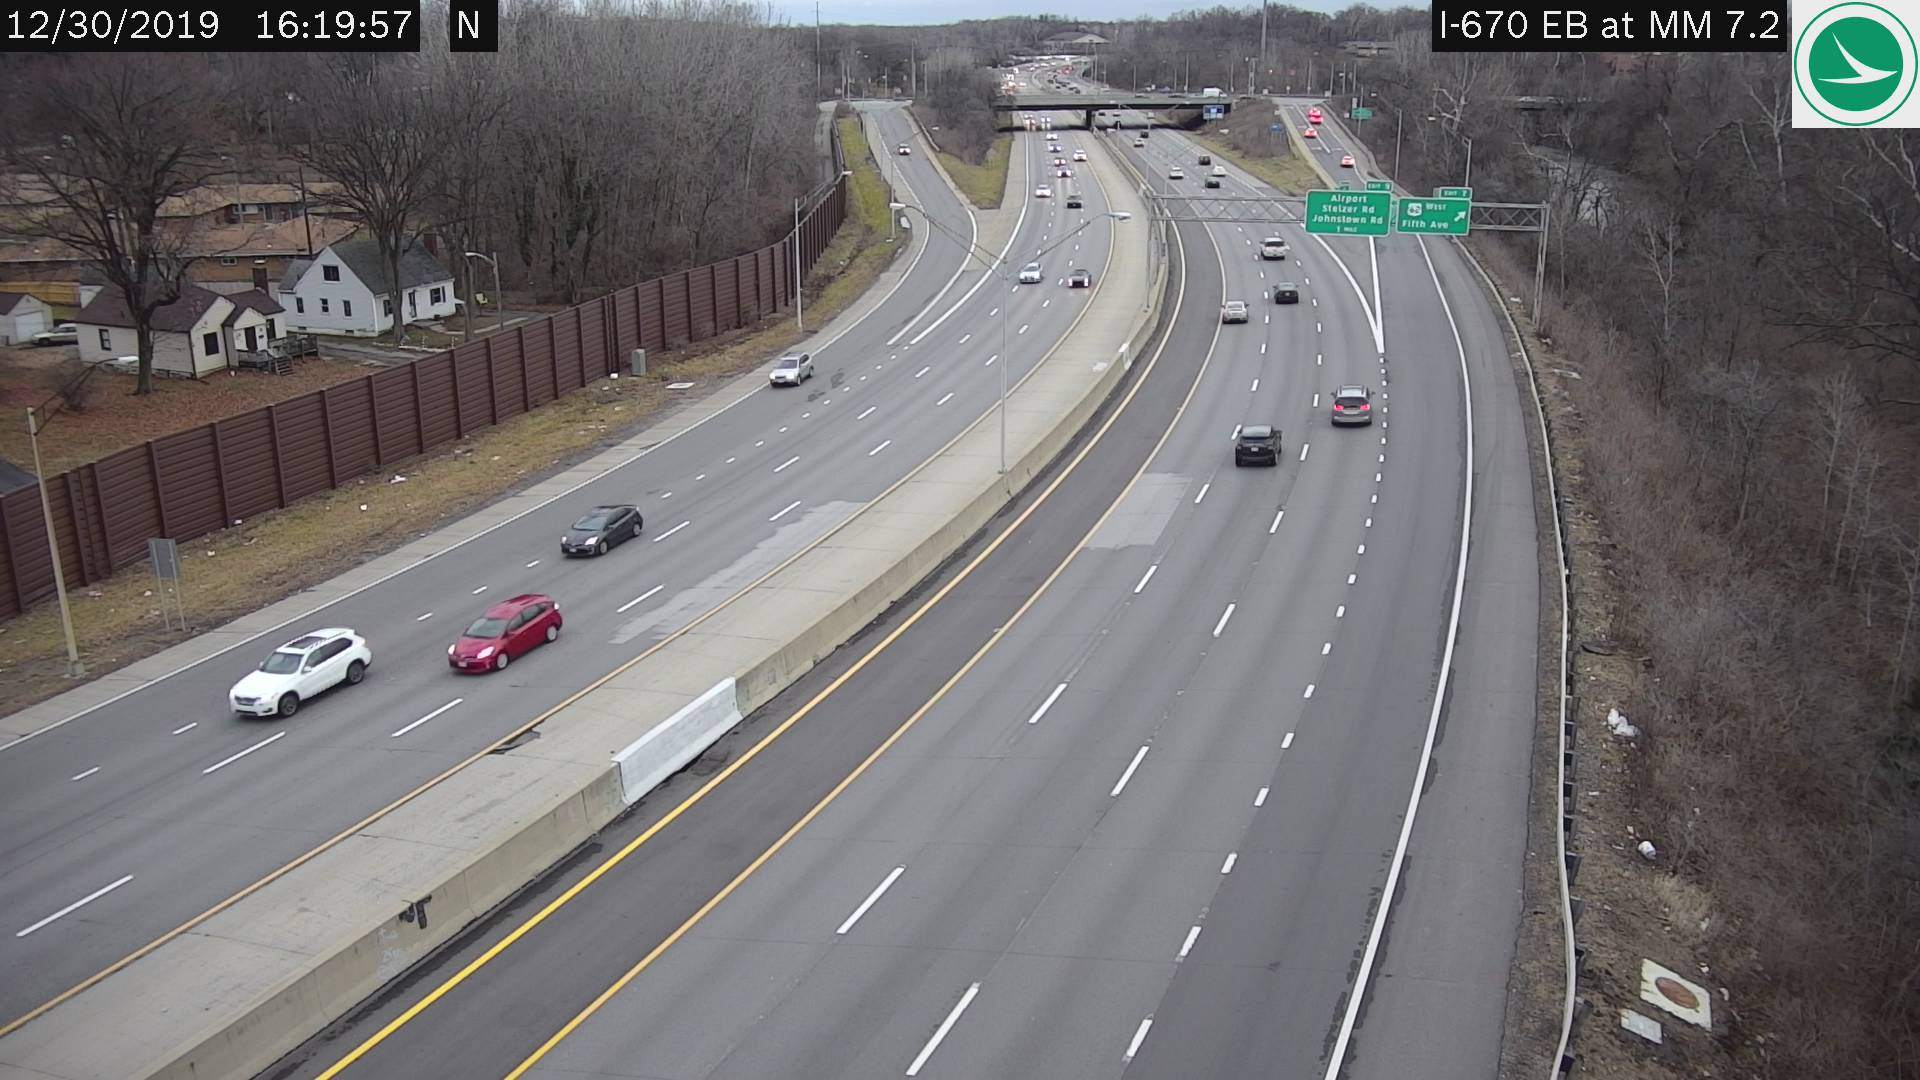car: (222, 624, 371, 720), (450, 588, 558, 676), (562, 500, 642, 556), (1331, 380, 1374, 425), (1234, 425, 1282, 464), (770, 352, 818, 380), (1222, 295, 1250, 320), (1270, 280, 1298, 305), (1261, 235, 1288, 260), (1018, 260, 1043, 282), (1065, 266, 1088, 287), (1036, 185, 1052, 196), (1065, 195, 1077, 207)
